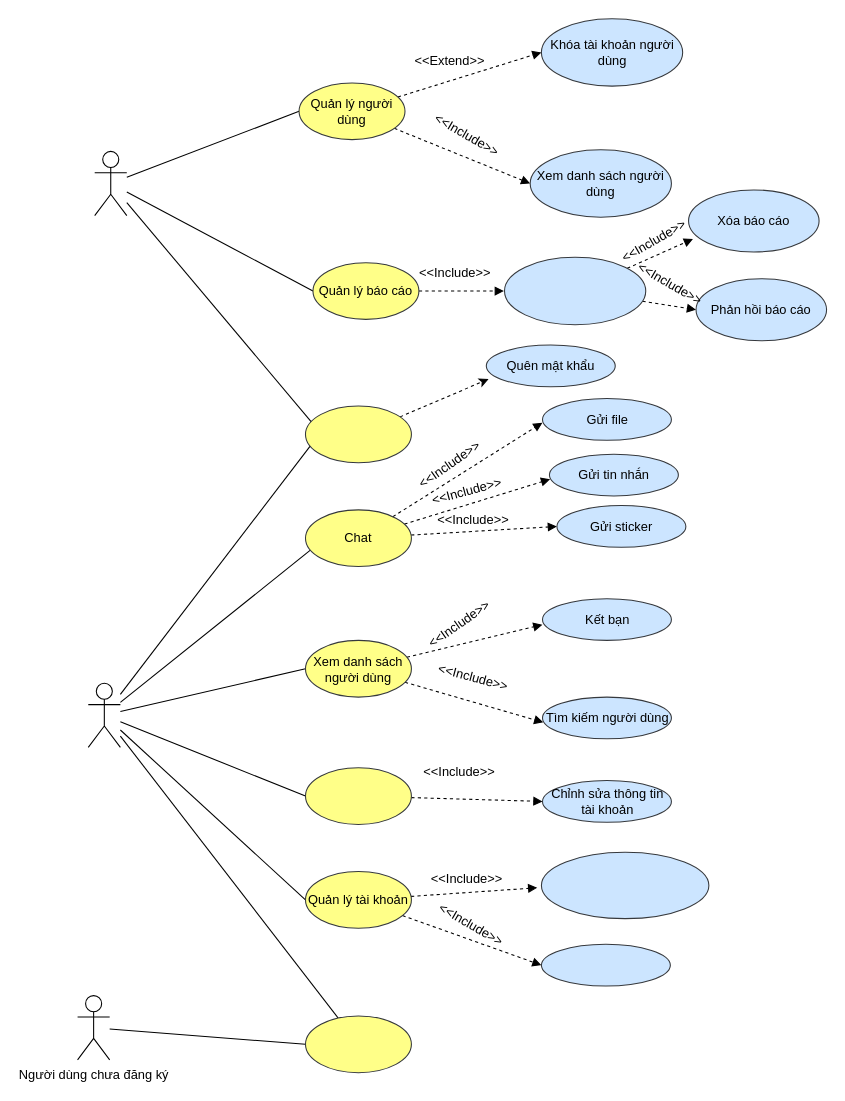
Some shapes in this 845 by 1101 pixel diagram are drawn without their labels. Each missing label, with the box of its shape:
Admin: (94, 150, 127, 216)
Người dùng: (87, 682, 120, 747)
Quản lý thông tin cá nhân: (304, 767, 411, 824)
Sửa thông tin cá nhân: (540, 851, 709, 919)
Xem báo cáo: (503, 256, 646, 325)
Xóa tài khoản: (540, 943, 670, 986)
Đăng ký: (304, 1015, 411, 1073)
Đăng nhập: (304, 405, 411, 463)
